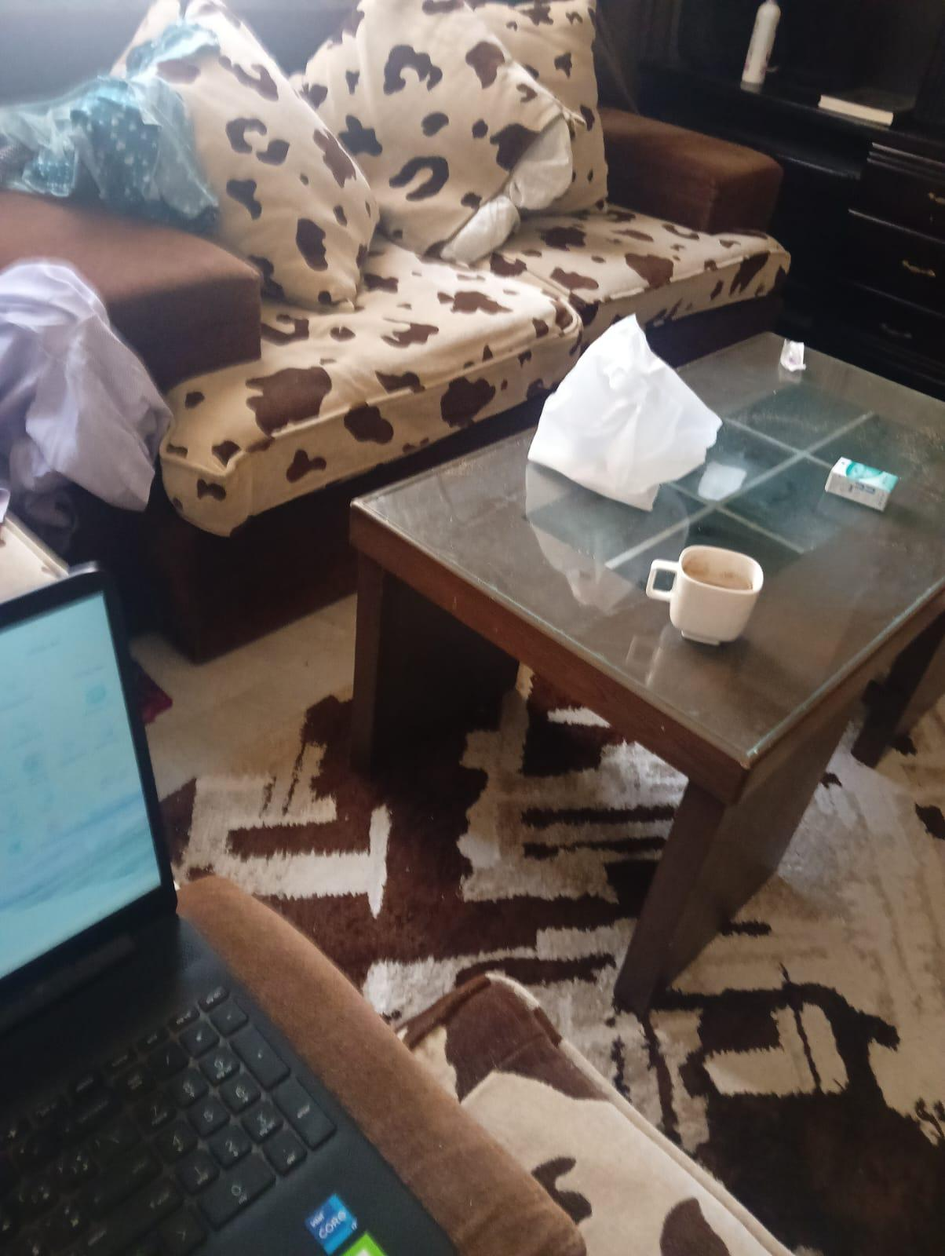cup: (646, 546, 762, 644)
